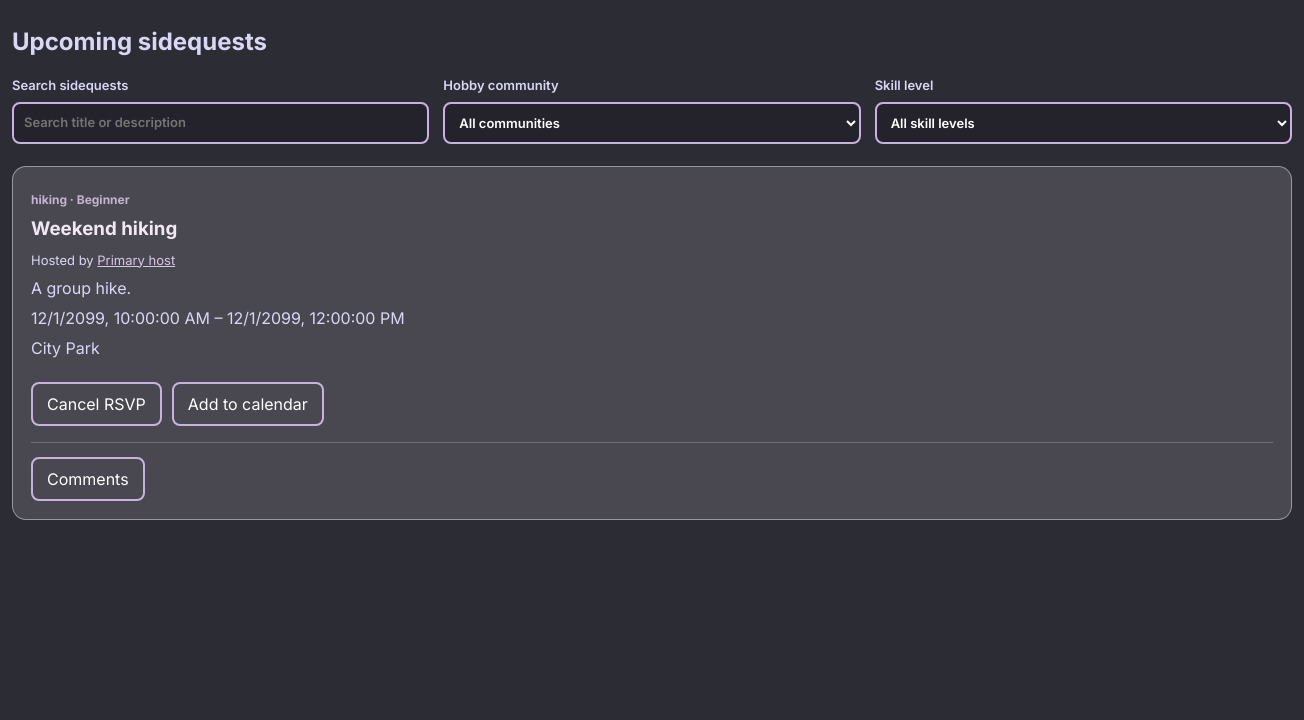
Test: missing script preserves attendance and leaves calendar addition available
Click the button "Add to calendar" at (248, 404), box [172,382,324,426]
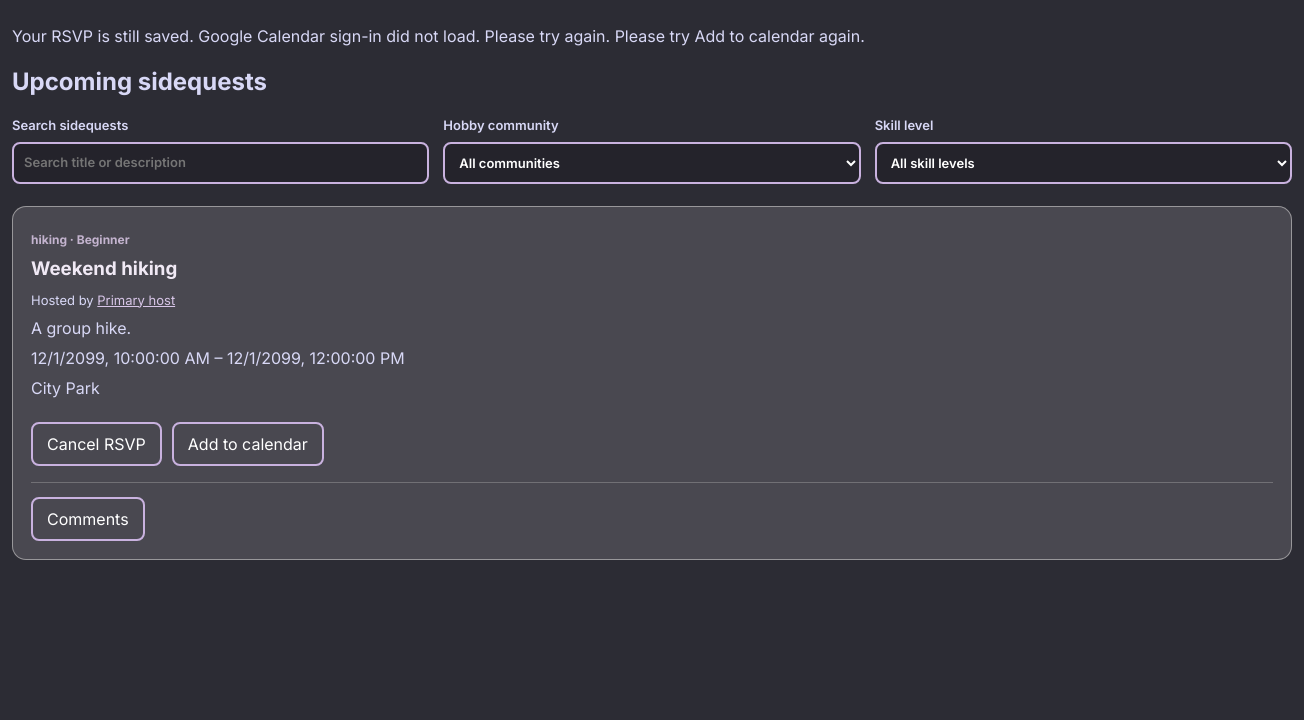
Check: the button "Cancel RSVP" is shown, box [31,422,162,466]
Check: the message shows "Google Calendar sign-in did not load.", box [12,26,865,46]
